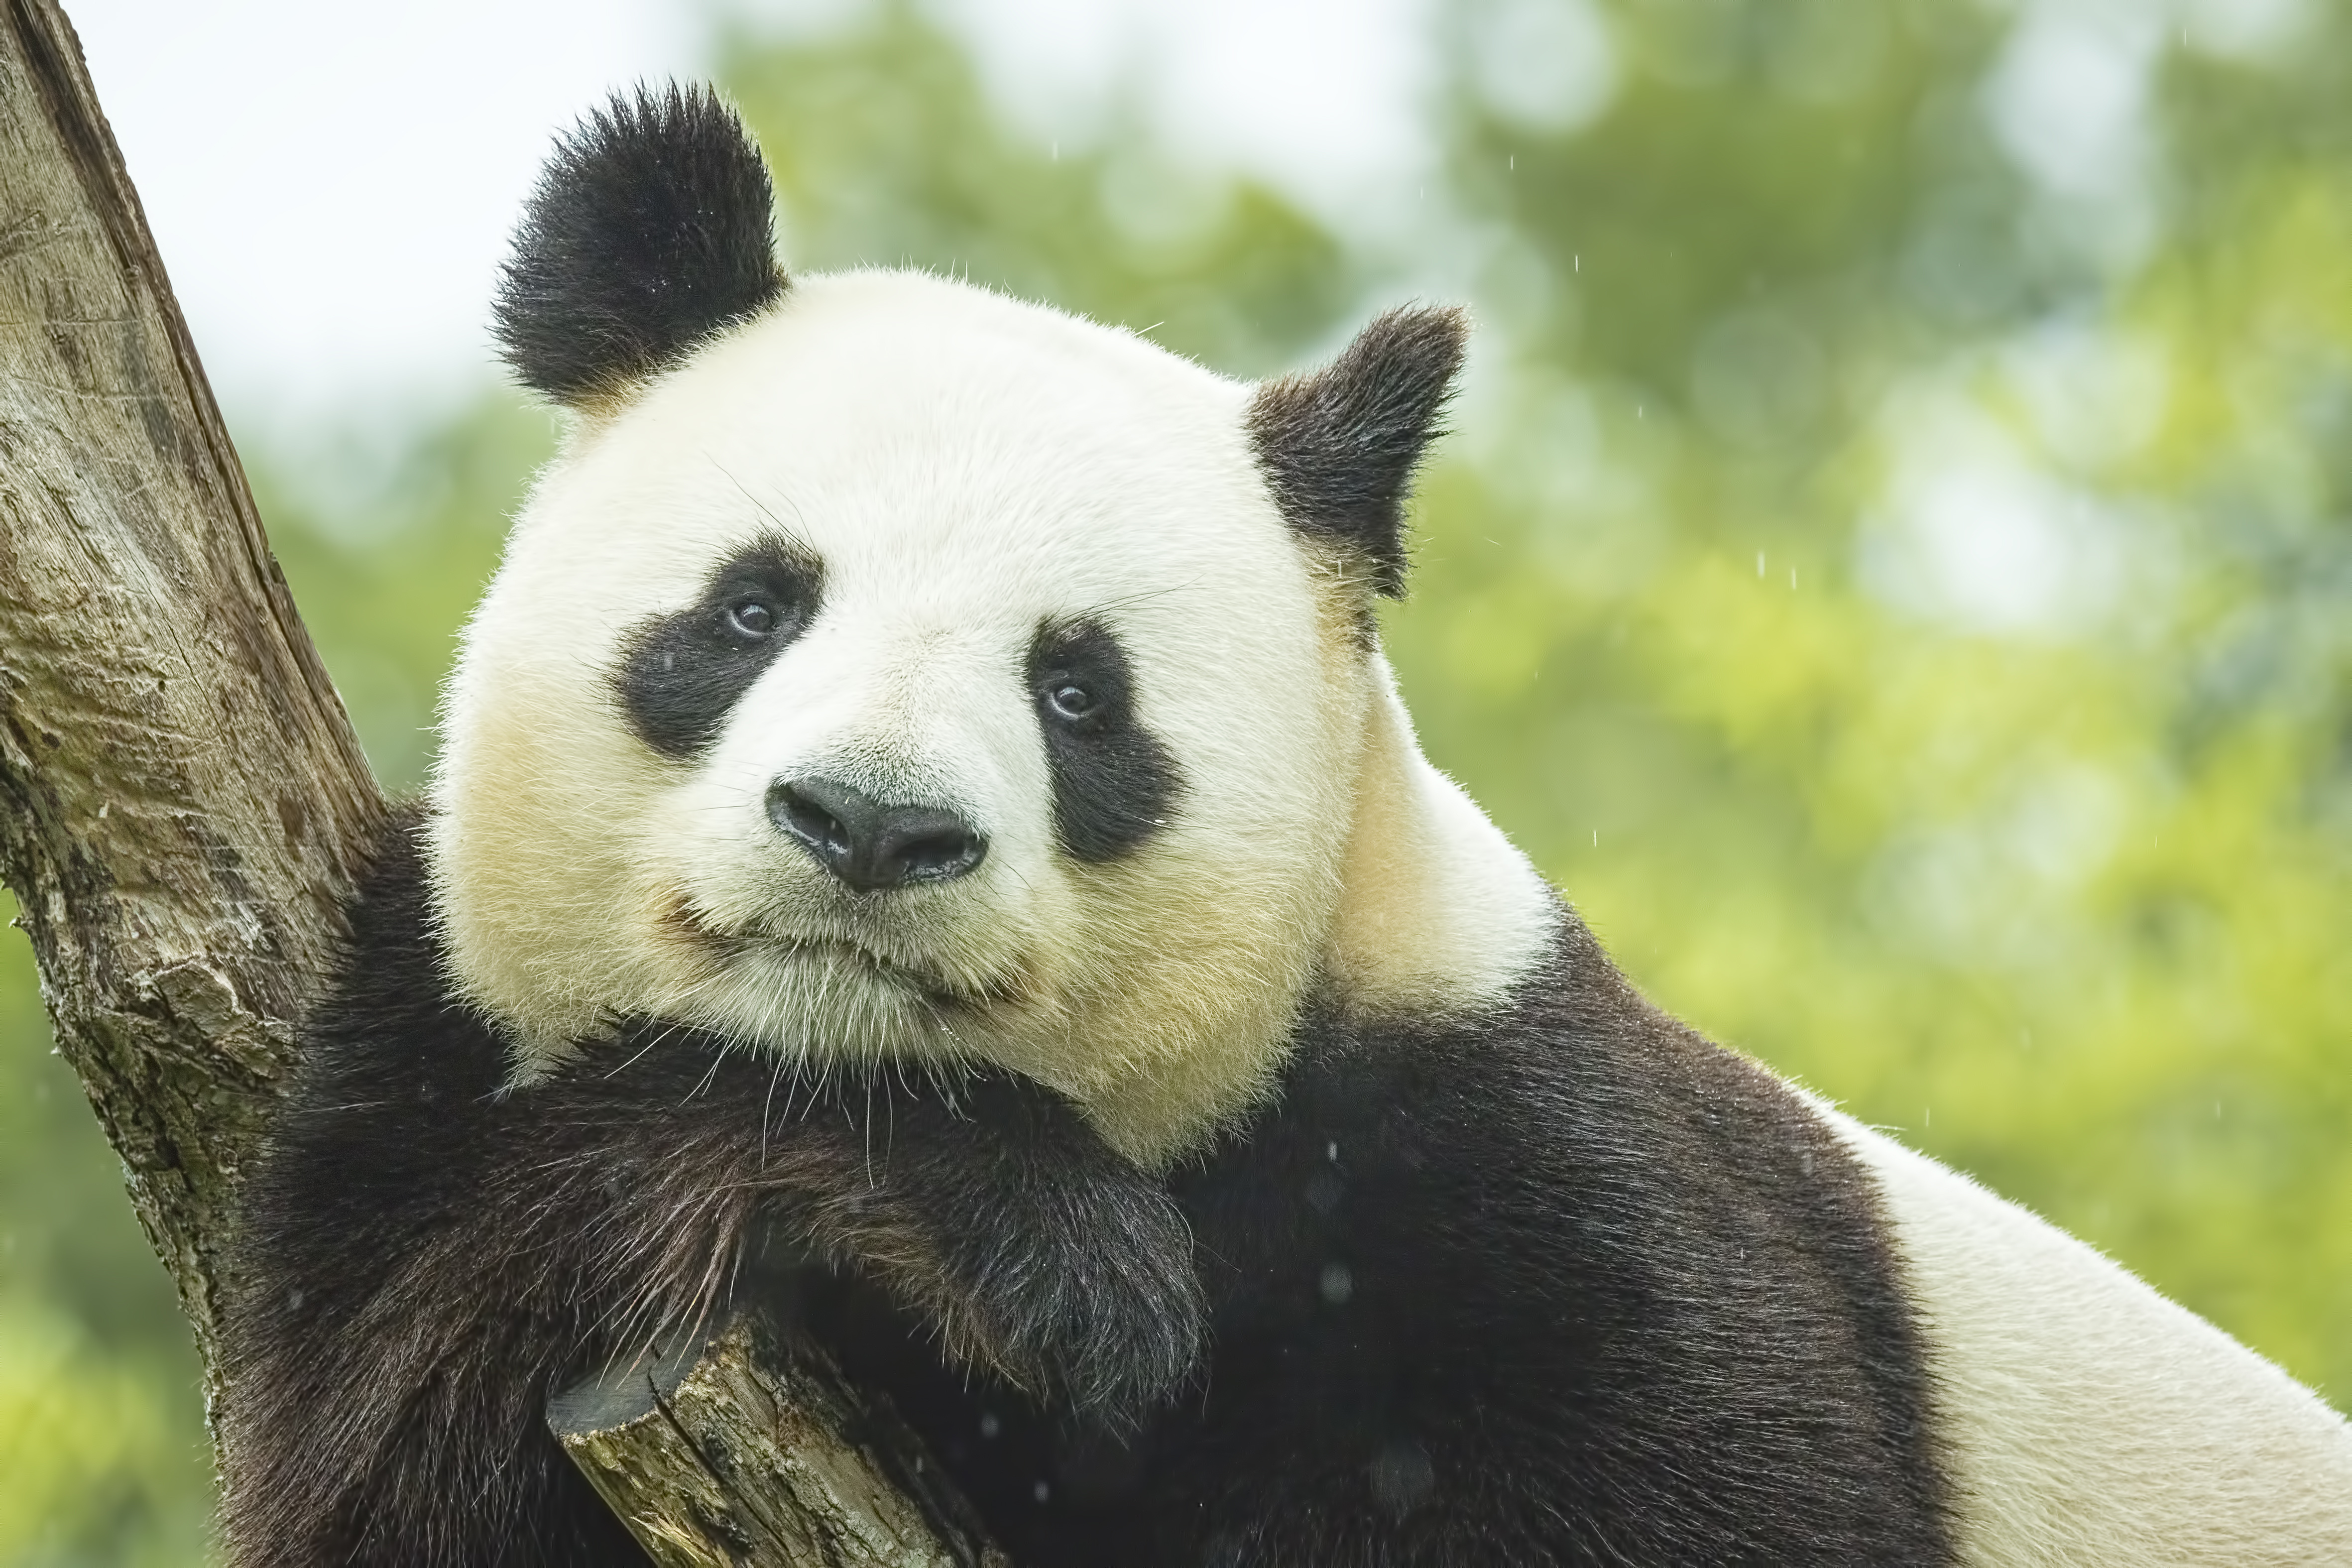panda: (250, 12, 2270, 1552)
